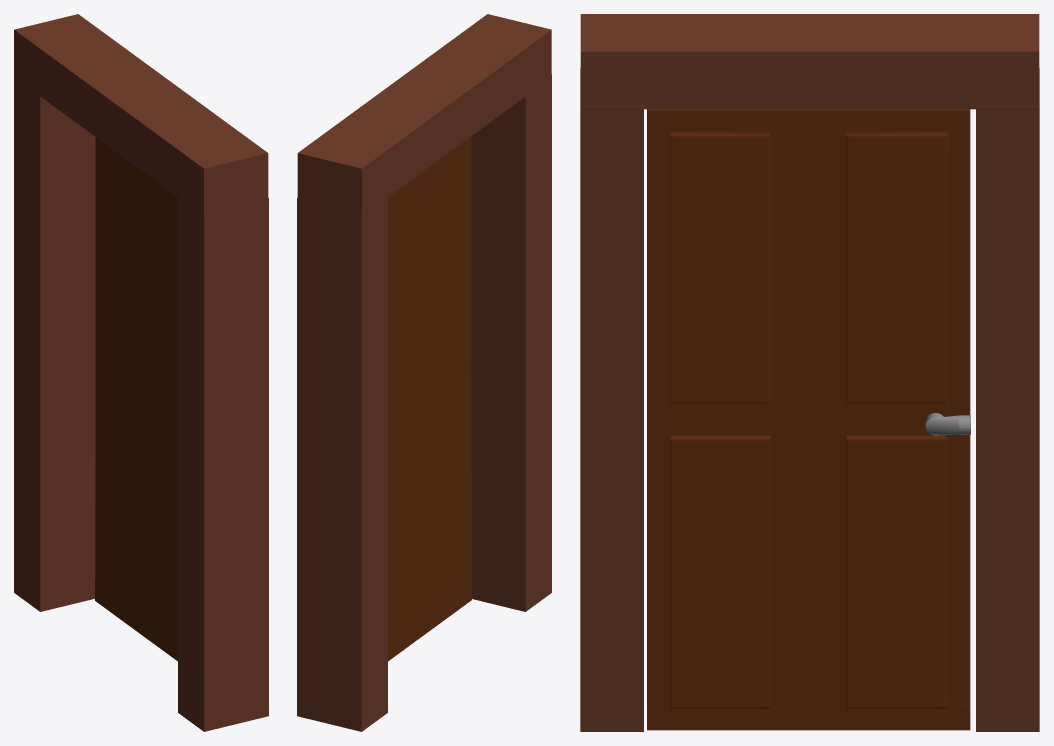
3 views of the same model, side by side, from view 1: azimuth 30°, elevation 25°; view 2: azimuth 150°, elevation 25°; view 3: azimuth 270°, elevation 25° (orthographic). The views are drawn at different scales.
Visible parts, largest first — view 1: chukattu, bagilu; view 2: chukattu, bagilu; view 3: chukattu, bagilu, bagila chuka, handal.
Part boxes in pixels (<box>): chukattu: <box>14,14,268,731</box>; bagilu: <box>95,137,177,661</box>; chukattu: <box>297,14,551,731</box>; bagilu: <box>388,136,471,661</box>; chukattu: <box>580,14,1039,731</box>; bagilu: <box>647,109,970,730</box>; bagila chuka: <box>670,132,946,704</box>; handal: <box>925,413,970,435</box>.
Bounding box in the file's own units: 0.6557 × 4.74 × 2.9.
